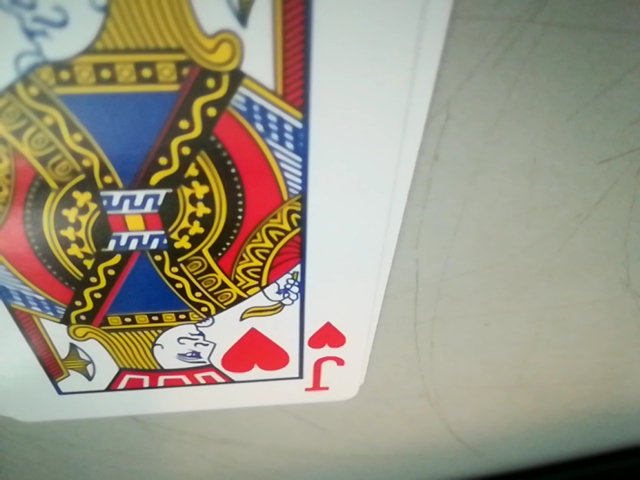hx j: (299, 320, 354, 391)
